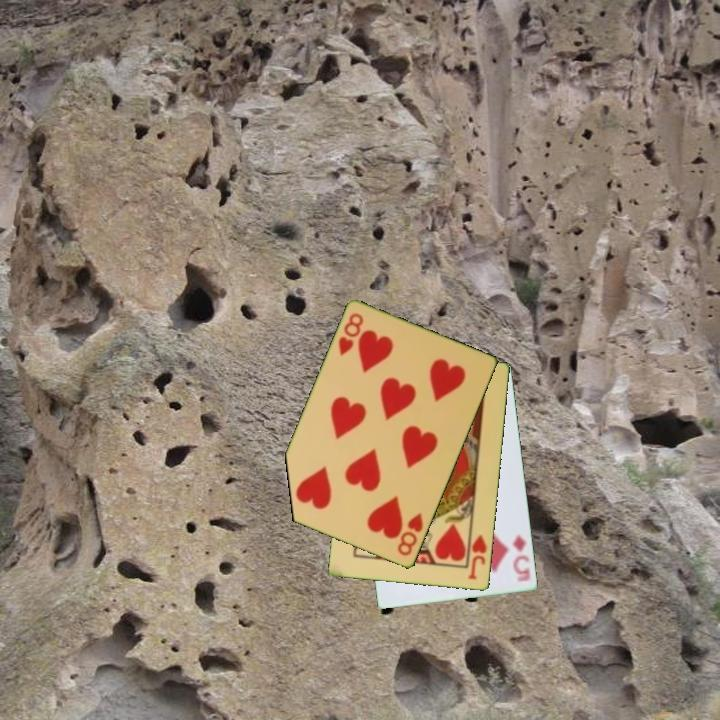5d: (510, 531, 534, 585)
8h: (394, 510, 426, 559), (335, 310, 366, 359)
Jh: (464, 527, 490, 583)
